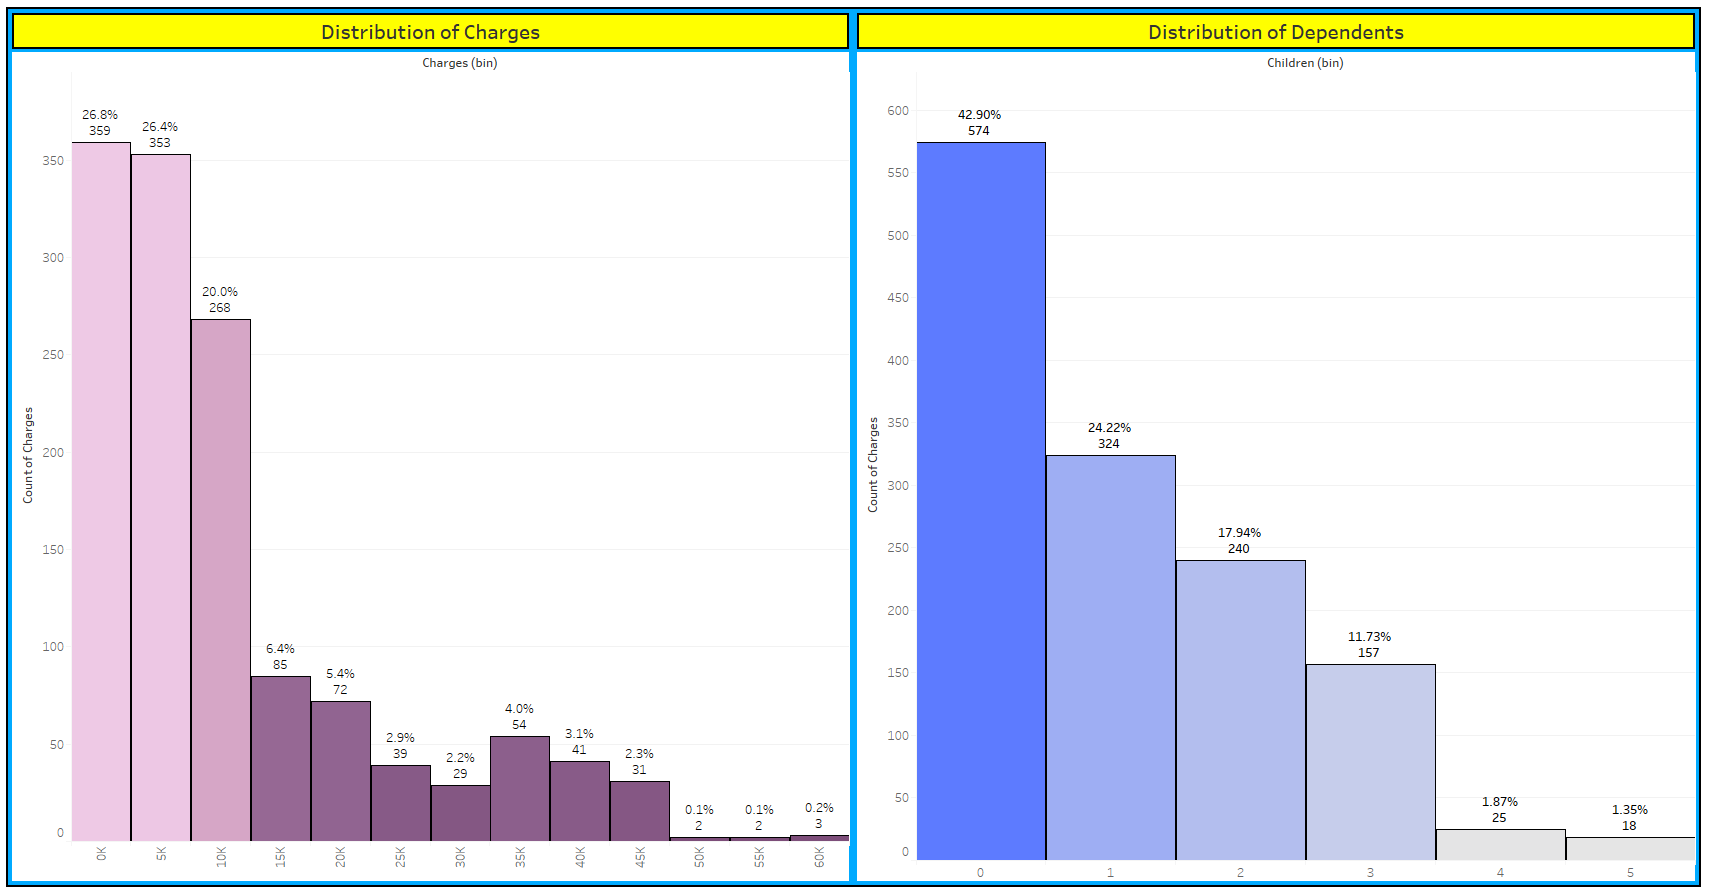

What the dashboard file says about the page in this screenshot:
{"tool":"tableau","page":{"name":"Dashboard 3","canvas":[1000,1000],"units":"permille","ordinal":2},"visuals":[{"type":"worksheet","title":"Distribution of Charges","mark":"Bar","rows":["charges"],"cols":["Charges (bin)"],"box":[4.7,10,495.3,977.7]},{"type":"worksheet","title":"Distribution of Dependents","mark":"Automatic","rows":["charges"],"cols":["Children (bin)"],"box":[500,10,494.1,977.7]}]}

Visuals, with their boxes on the dashboard's canvas, which has no fixed pixel size, in thousandths of its width and height (x1, y1, x2, y2). These are canvas units, not pixel positions in the 1709x896 screenshot, which may show the page scaled, cropped or inside an application window:
"Distribution of Charges" worksheet (Bar marks): {"x1": 5, "y1": 10, "x2": 500, "y2": 988}
"Distribution of Dependents" worksheet: {"x1": 500, "y1": 10, "x2": 994, "y2": 988}
